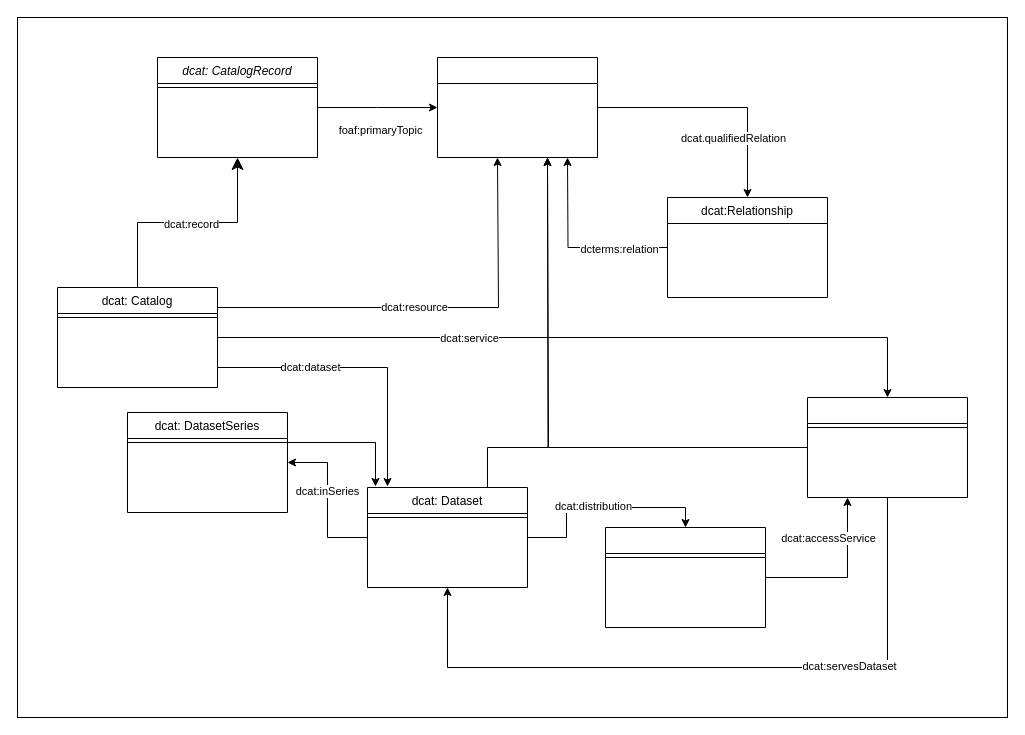
This 1025x735 diagram has some shape labels left out. The centre of each missing label's shape, as x and y in pixels:
dcat: DataService: (x=887, y=447)
dcat: Distribubtion: (x=685, y=577)
dcat;Resource: (x=517, y=107)
